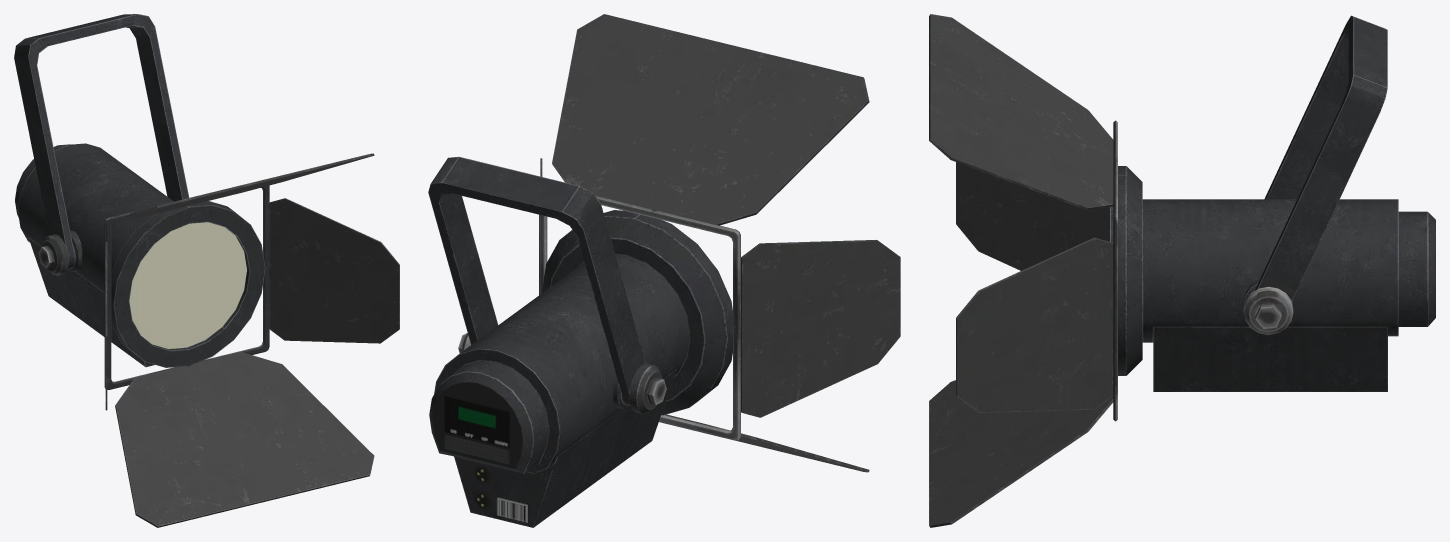
Rendered from spotlight.glb.
3 renders of one model, left to right at view 1: azimuth 30°, elevation 25°; view 2: azimuth 150°, elevation 25°; view 3: azimuth 270°, elevation 25°, orthographic. The views are drawn at different scales.
Visible parts, largest first — view 1: polySurface1_lambert1_0; view 2: polySurface1_lambert1_0; view 3: polySurface1_lambert1_0.
Boxes of the visible parts, x1=… form: polySurface1_lambert1_0: x1=14, y1=14, x2=399, y2=527; polySurface1_lambert1_0: x1=428, y1=14, x2=900, y2=527; polySurface1_lambert1_0: x1=929, y1=14, x2=1435, y2=527.
Bounding box in the file's own units: 0.4278 × 0.4832 × 0.5285.
Materials: 1 (1 with a texture image).
